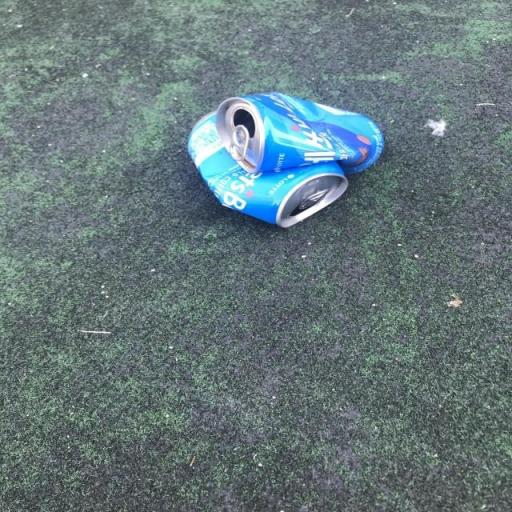metal: (163, 78, 398, 242)
